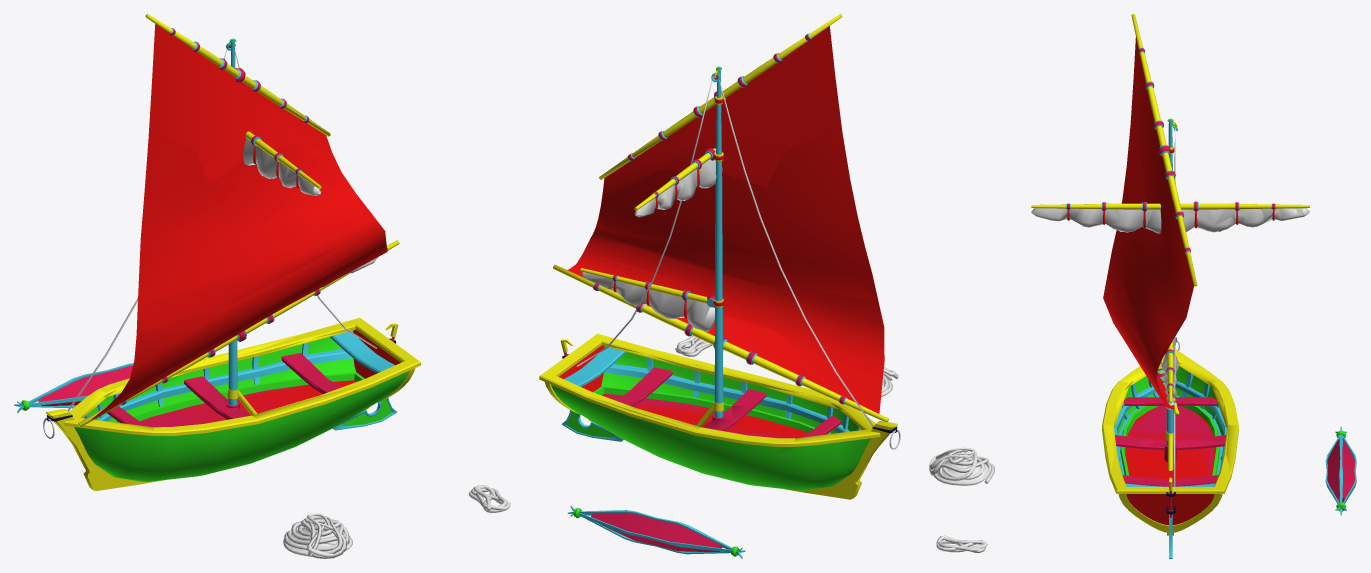
The model's file is DecoHarbor00.fbx.
3 renders of one model, left to right at view 1: azimuth 30°, elevation 25°; view 2: azimuth 150°, elevation 25°; view 3: azimuth 270°, elevation 25°, orthographic. The views are drawn at different scales.
Visible parts, largest first — view 1: Cylinder013, Cylinder014, Cylinder002, Cylinder005, Line001, Box005, Line002, Cylinder010, Line004, Cylinder006, Cylinder004, Cylinder009 (+1 smaller); view 2: Cylinder013, Cylinder014, Cylinder002, Cylinder005, Box005, Cylinder006, Line001, Line006, Cylinder015, Cylinder010, Cylinder012, Cylinder011 (+3 smaller); view 3: Cylinder013, Cylinder002, Cylinder014, Cylinder005, Line001, Cylinder010, Cylinder009, Box005, Line002, Cylinder018, Cylinder006, Line003 (+1 smaller).
Boxes of the visible parts, <box> form: Cylinder013: <box>78,14,399,427</box>; Cylinder014: <box>107,24,387,407</box>; Cylinder002: <box>46,317,420,490</box>; Cylinder005: <box>51,318,417,486</box>; Line001: <box>117,372,364,427</box>; Box005: <box>14,363,133,412</box>; Line002: <box>283,519,352,556</box>; Cylinder010: <box>243,138,320,195</box>; Line004: <box>302,513,346,558</box>; Cylinder006: <box>226,38,257,419</box>; Cylinder004: <box>333,323,398,430</box>; Cylinder009: <box>245,131,321,188</box>; Cylinder013: <box>553,14,888,421</box>; Cylinder014: <box>567,46,884,413</box>; Cylinder002: <box>539,333,897,499</box>; Cylinder005: <box>546,334,890,492</box>; Box005: <box>567,505,745,558</box>; Cylinder006: <box>696,66,725,431</box>; Line001: <box>593,386,830,438</box>; Line006: <box>576,79,873,427</box>; Cylinder015: <box>581,272,714,331</box>; Cylinder010: <box>634,159,722,217</box>; Cylinder012: <box>584,273,714,331</box>; Cylinder011: <box>580,268,714,318</box>; Cylinder013: <box>1107,14,1197,415</box>; Cylinder002: <box>1102,337,1238,535</box>; Cylinder014: <box>1103,37,1193,409</box>; Cylinder005: <box>1103,349,1237,490</box>; Line001: <box>1117,395,1223,475</box>; Cylinder010: <box>1031,208,1309,233</box>; Cylinder009: <box>1031,201,1309,228</box>; Box005: <box>1325,427,1356,515</box>; Line002: <box>933,451,994,485</box>; Cylinder018: <box>1032,208,1309,231</box>; Cylinder006: <box>1164,118,1176,470</box>; Line003: <box>936,535,987,552</box>.
Bounding box in the file's own units: 49.57 × 65.34 × 57.76.
